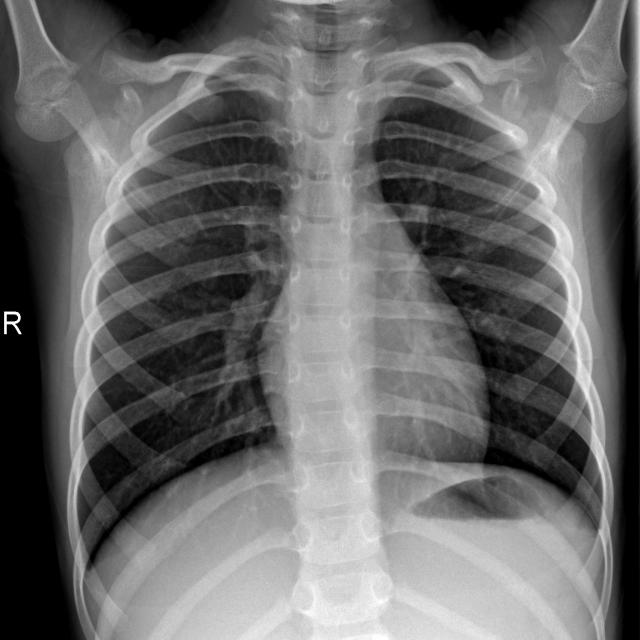no-pneumonia: (74, 55, 292, 572), (381, 99, 605, 526)
